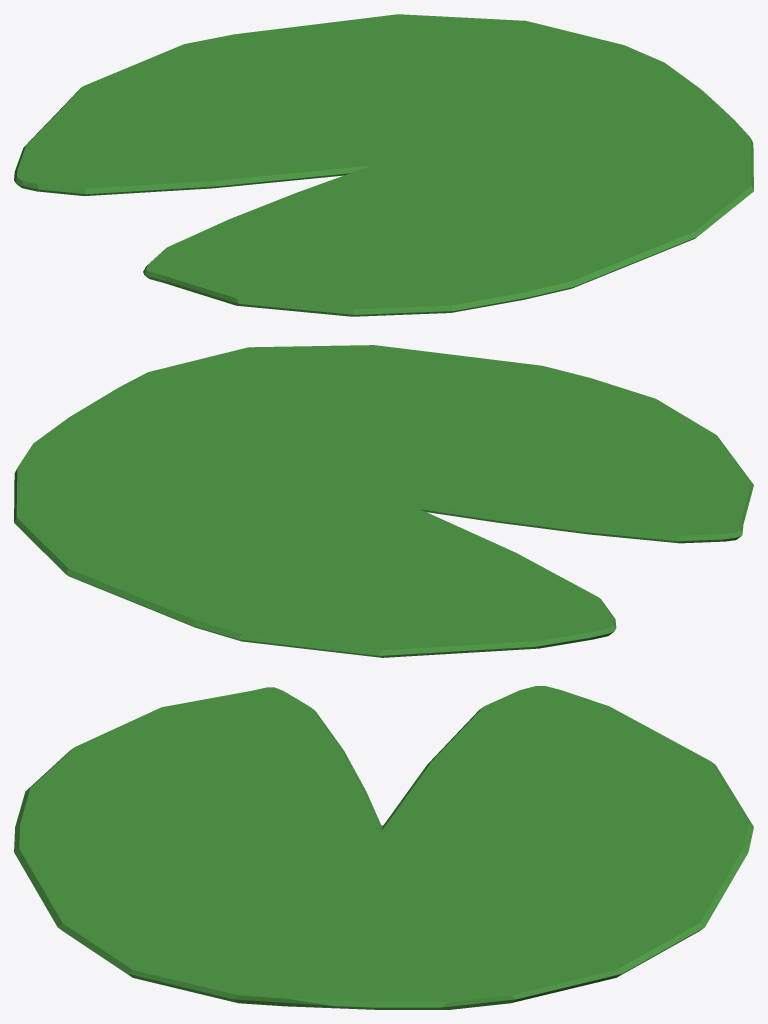
Rendered from lilipad.fbx.
The picture shows the model from 3 angles, top to bottom: view 1: azimuth 30°, elevation 25°; view 2: azimuth 150°, elevation 25°; view 3: azimuth 270°, elevation 25°; orthographic projection. The views are drawn at different scales.
Visible parts, largest first — view 1: LilyPlainGreen; view 2: LilyPlainGreen; view 3: LilyPlainGreen.
Boxes of the visible parts, x1,y1,x2,y2 form: LilyPlainGreen: [14, 14, 753, 316]; LilyPlainGreen: [14, 345, 753, 657]; LilyPlainGreen: [14, 686, 753, 1009].
Bounding box in the file's own units: 652 × 7.5 × 638.
